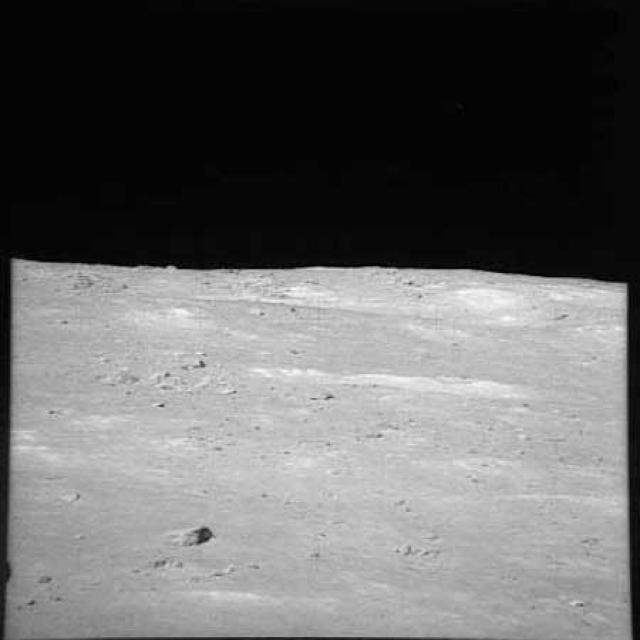rock: (153, 515, 222, 552)
